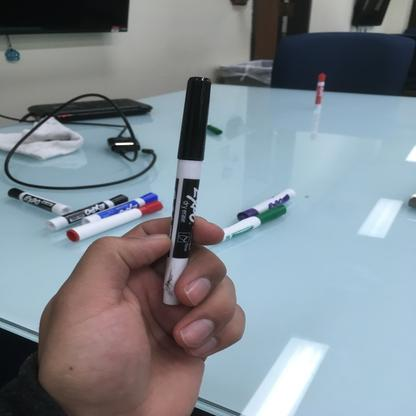expo_marker: (155, 70, 217, 310), (65, 199, 166, 244), (45, 194, 132, 238), (222, 202, 288, 241), (77, 189, 160, 220), (6, 186, 77, 220), (237, 185, 298, 223), (305, 71, 329, 107)
